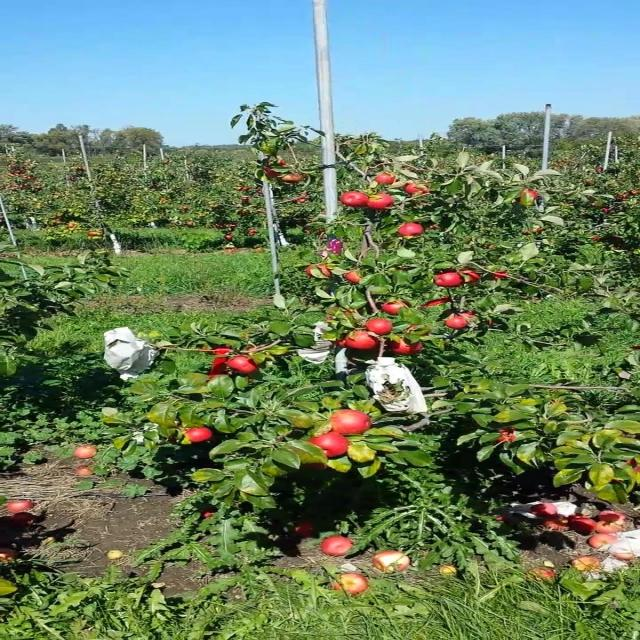apple: (309, 431, 349, 457), (331, 409, 371, 435), (344, 330, 378, 350), (227, 355, 258, 374), (389, 339, 422, 355), (433, 271, 464, 288), (364, 318, 393, 335), (340, 191, 369, 207), (367, 192, 393, 209), (304, 264, 333, 279), (398, 222, 424, 238), (184, 428, 213, 442), (402, 181, 431, 195), (382, 300, 409, 315), (209, 356, 229, 376), (444, 314, 469, 329), (262, 159, 280, 179), (73, 445, 98, 459), (422, 296, 451, 308), (627, 458, 640, 483), (404, 324, 431, 336), (460, 269, 482, 283), (496, 428, 516, 443), (280, 172, 304, 184), (342, 270, 362, 284), (376, 172, 396, 185), (518, 189, 538, 202), (327, 239, 342, 254), (327, 240, 342, 254), (318, 264, 331, 278), (491, 270, 509, 280), (458, 310, 476, 320), (213, 346, 231, 356), (333, 336, 347, 348), (276, 160, 287, 166)
